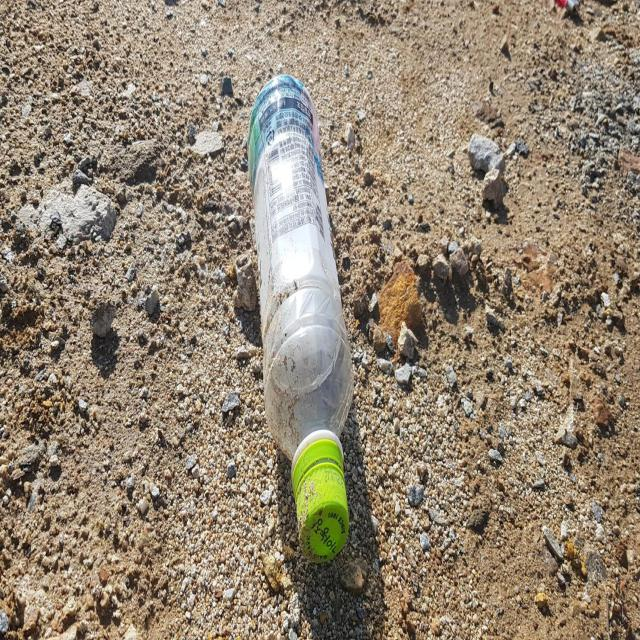plastic: (248, 74, 353, 562)
